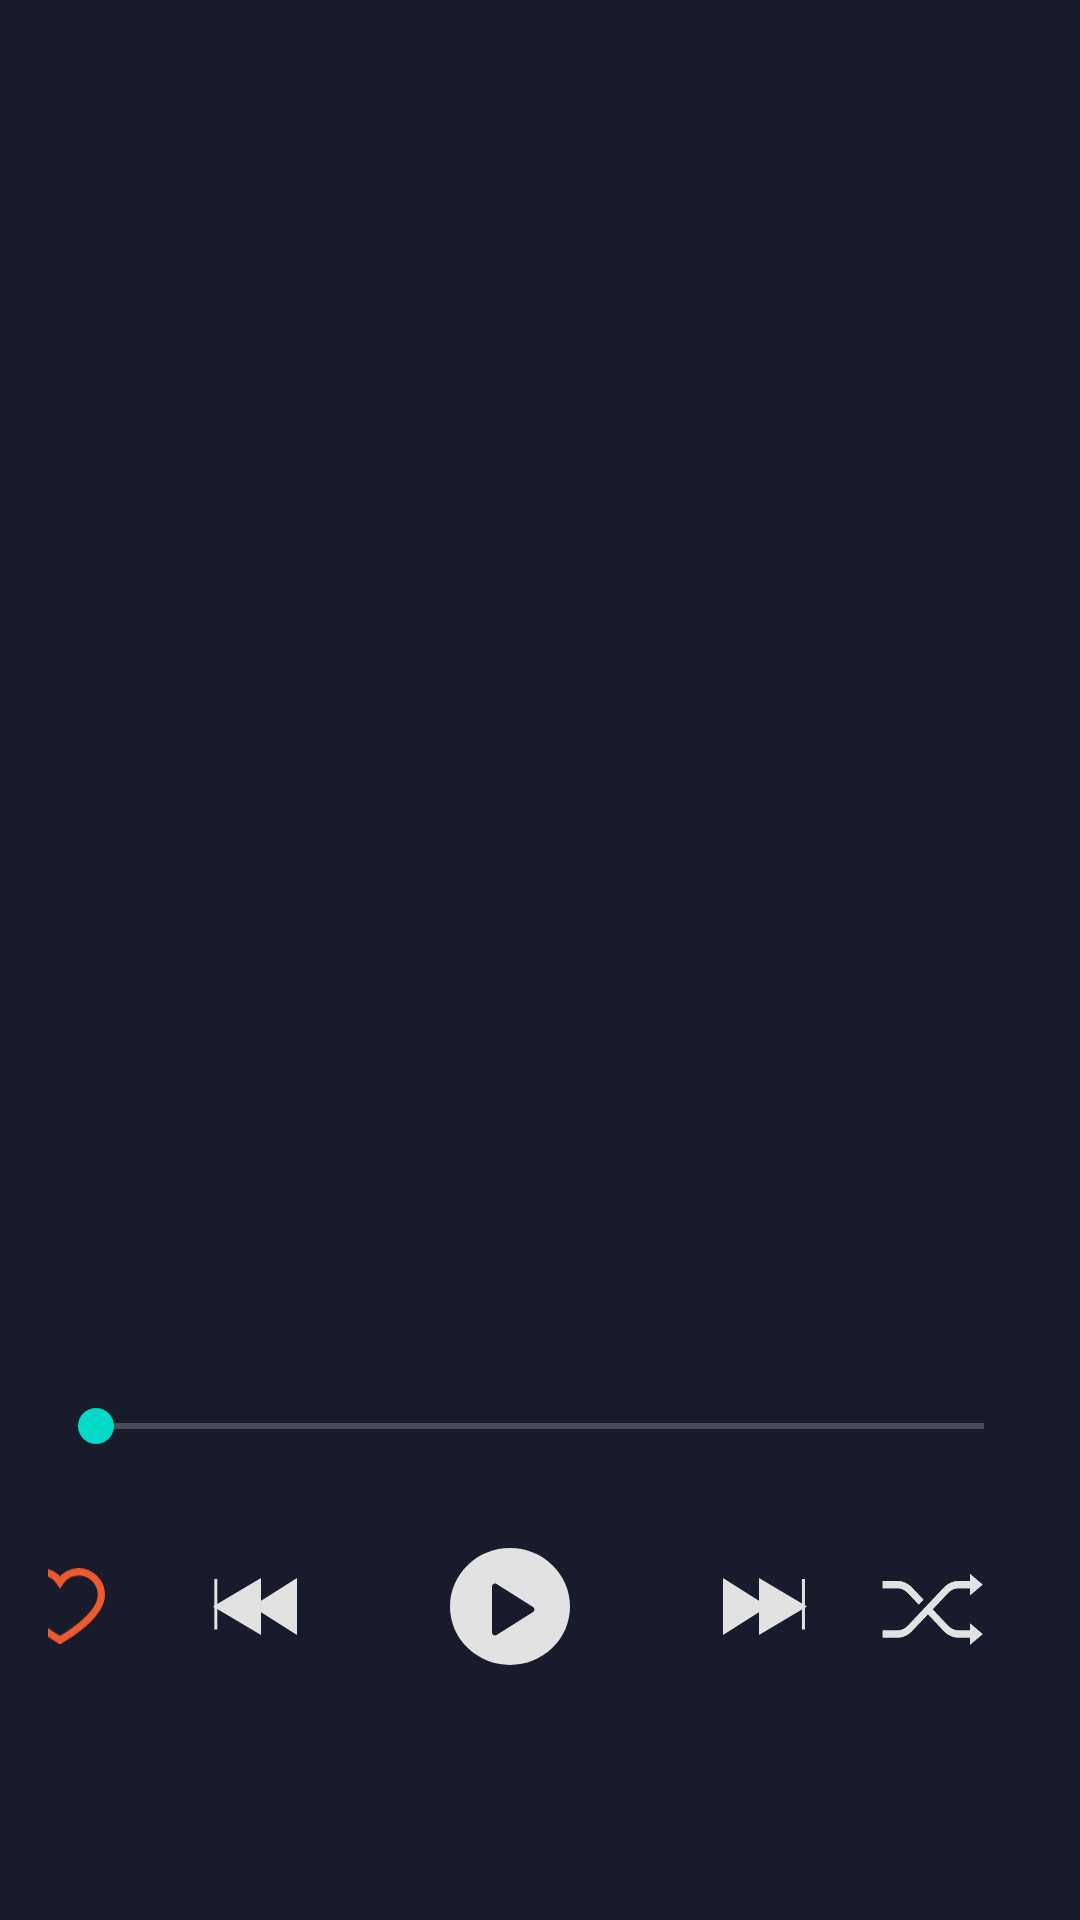

Point at icon controls on the screen. Image size 1080*1920, points as [x,y].
Next: [765,1606]
Play: [510,1606]
Previous: [255,1606]
